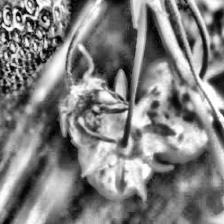Gray Mold: (59, 45, 130, 148)
